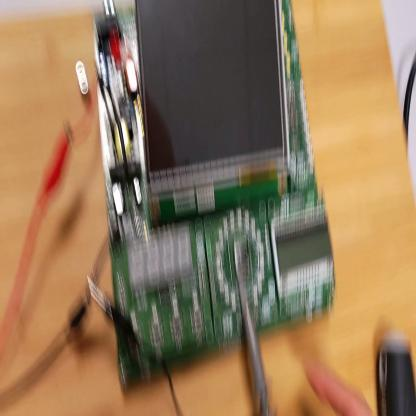hand: (297, 358, 373, 415)
low voltage board: (69, 2, 339, 394)
oscilloscope probe tip: (238, 256, 280, 416)
screwdriver-: (377, 329, 416, 414)
working area: (2, 1, 416, 415)
